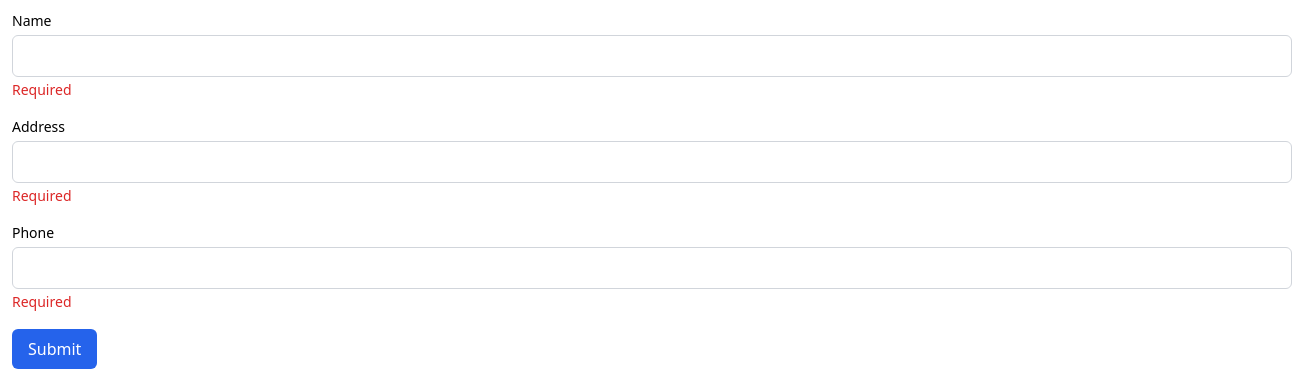
Test: CheckoutForm › shows API error and preserves cart on 400
Type "John Doe" into the field labelled "Name" at coordinates (652, 56), box [12,35,1292,77]
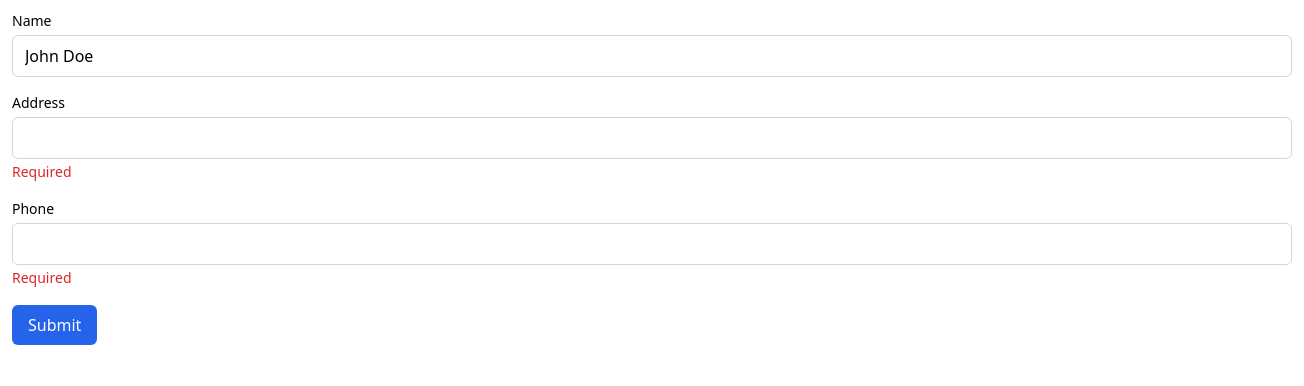
Type "123 Main St" into the field labelled "Address" at coordinates (652, 138), box [12,117,1292,159]
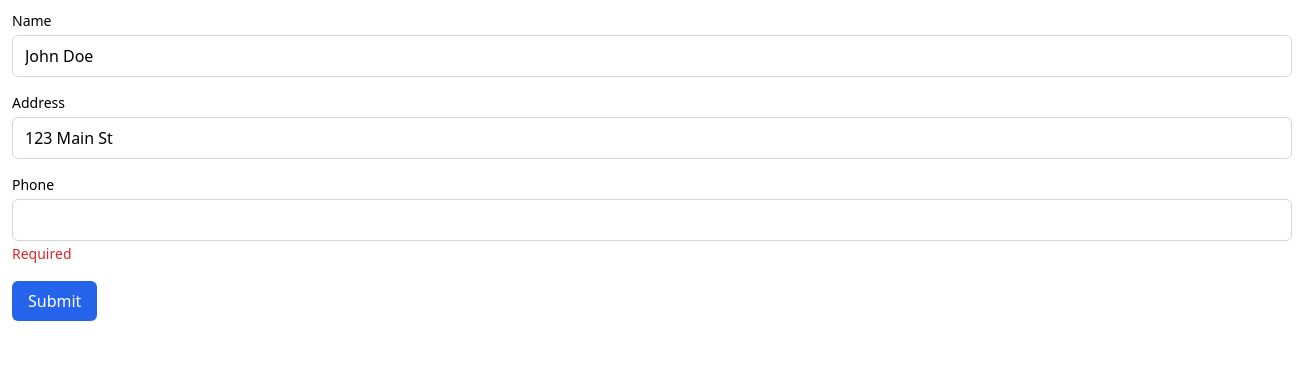
Type "555-0123" into the field labelled "Phone" at coordinates (652, 220), box [12,199,1292,241]
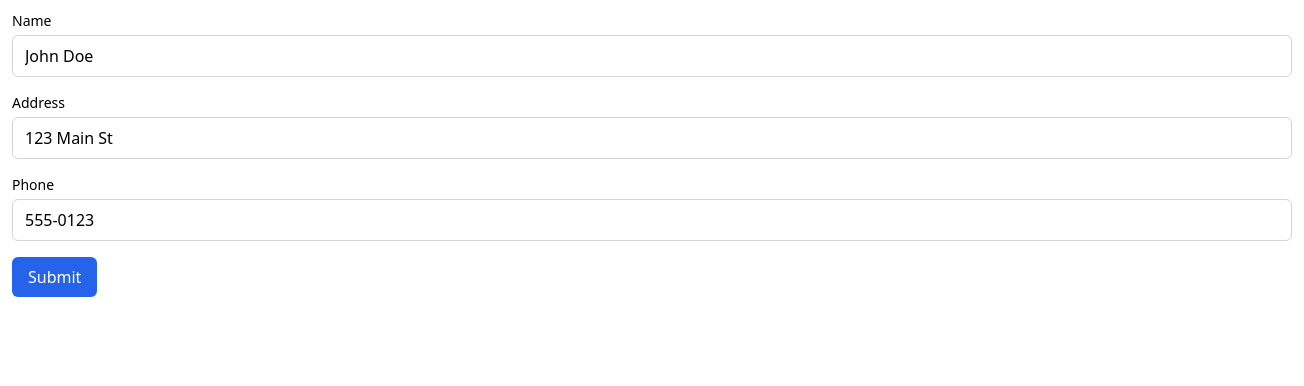
Click the button "Submit" at coordinates (55, 277), box [12,257,97,297]
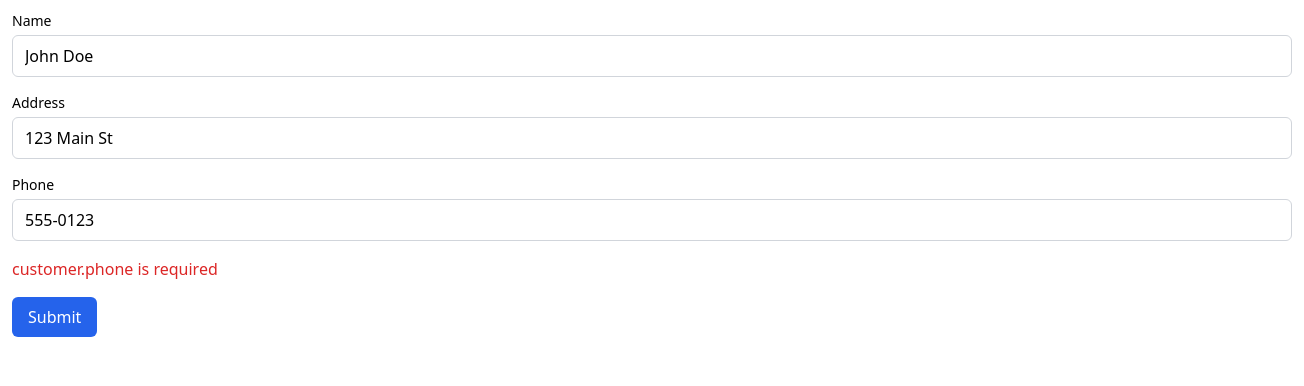
Expected: the text "customer.phone is required" is shown, [12,258,218,280]
